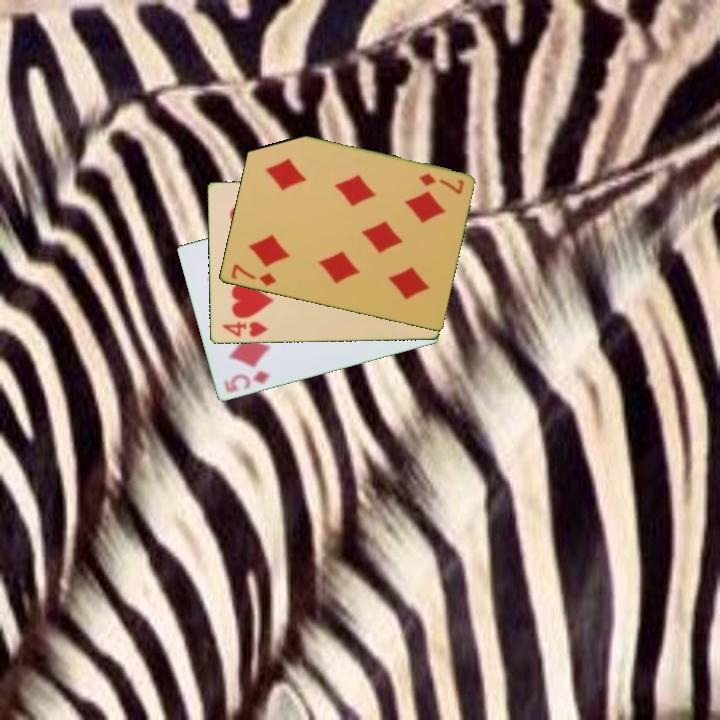4h: (219, 318, 270, 340)
5d: (221, 367, 273, 396)
7d: (227, 261, 279, 289), (415, 170, 466, 197)
